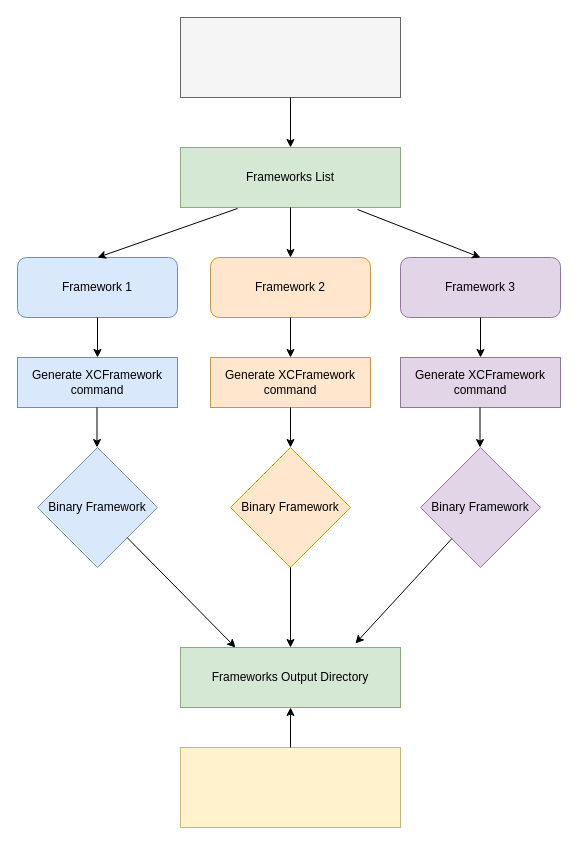
This 578x845 diagram has some shape labels left out. The shapes that lost their labels are listed below. From the top down, each one's box as (x1, y1, x2, y2) in pixels, then its label:
(180, 16, 400, 98): Root Makefile
(180, 746, 400, 828): iOS Application
